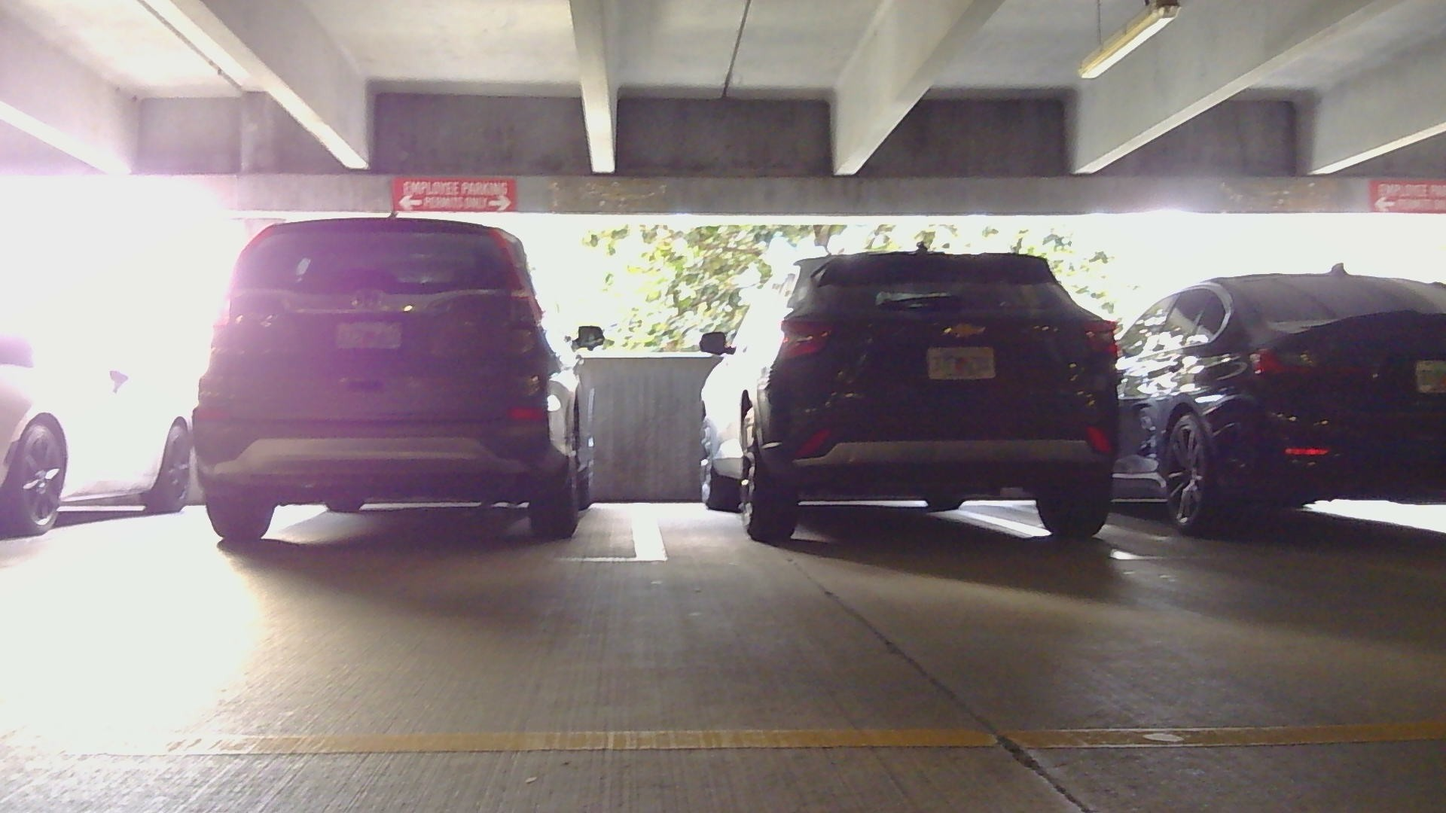occupied_spot: (184, 205, 611, 568), (680, 245, 1136, 564), (1108, 275, 1445, 551), (0, 304, 198, 547)
